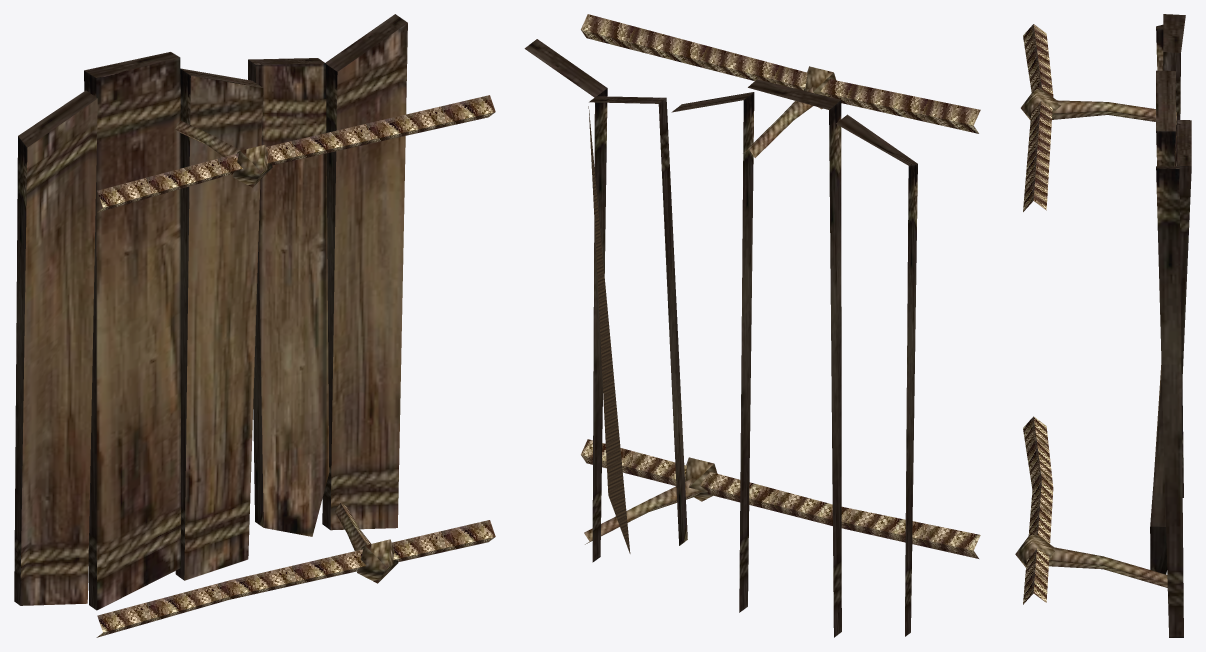
The picture shows the model from 3 angles, left to right: view 1: azimuth 30°, elevation 25°; view 2: azimuth 150°, elevation 25°; view 3: azimuth 270°, elevation 25°; orthographic projection. The views are drawn at different scales.
Visible parts, largest first — view 1: model_Object48; view 2: model_Object48; view 3: model_Object48.
Part boxes in pixels (<box>): model_Object48: <box>14,14,495,637</box>; model_Object48: <box>524,14,980,637</box>; model_Object48: <box>1015,14,1191,637</box>.
Size of the model in its own units: 5.12 by 6.57 by 2.14.
Materials: 2 (2 with a texture image).
